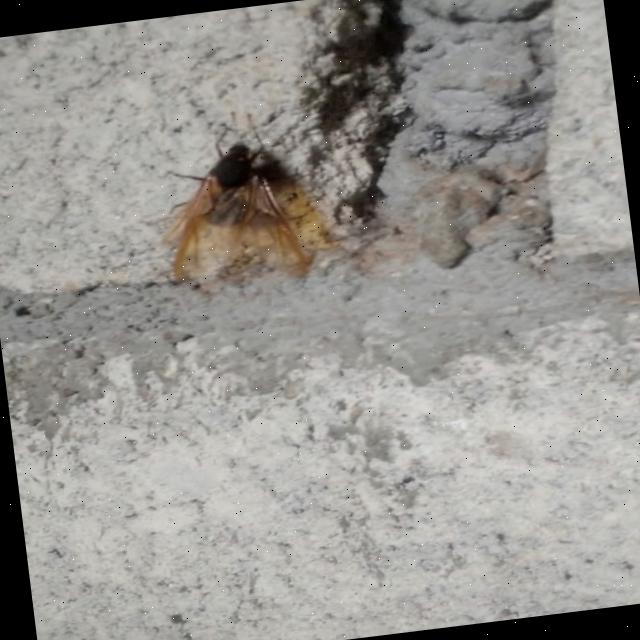Alive-Male-Alate: (144, 106, 312, 302)
